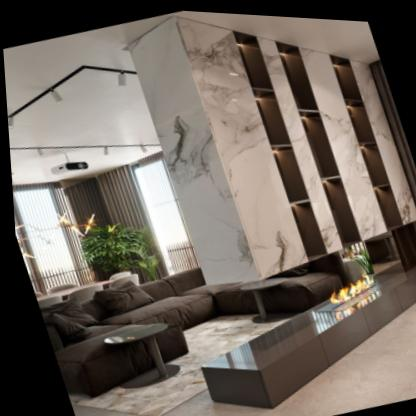Ceramic floor: (65, 294, 416, 416)
Curtains: (87, 153, 198, 288)
Sofa: (35, 265, 256, 398)
Wall Panel: (128, 14, 416, 283)
